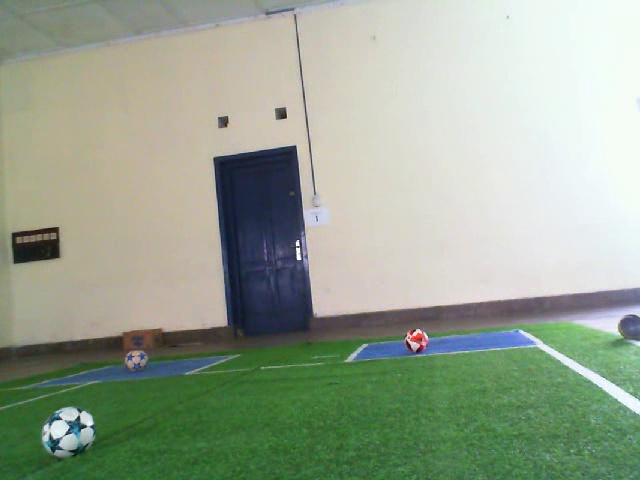ball: (39, 405, 98, 462), (403, 326, 431, 357), (122, 348, 151, 374)
